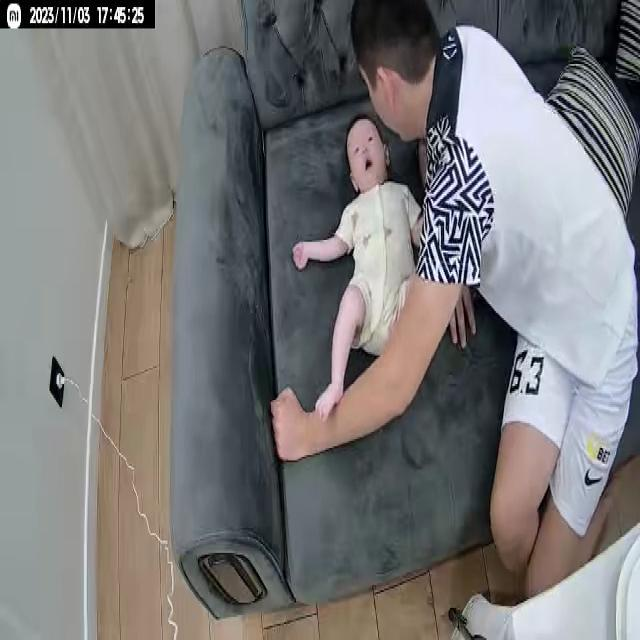baby: (290, 111, 434, 422)
